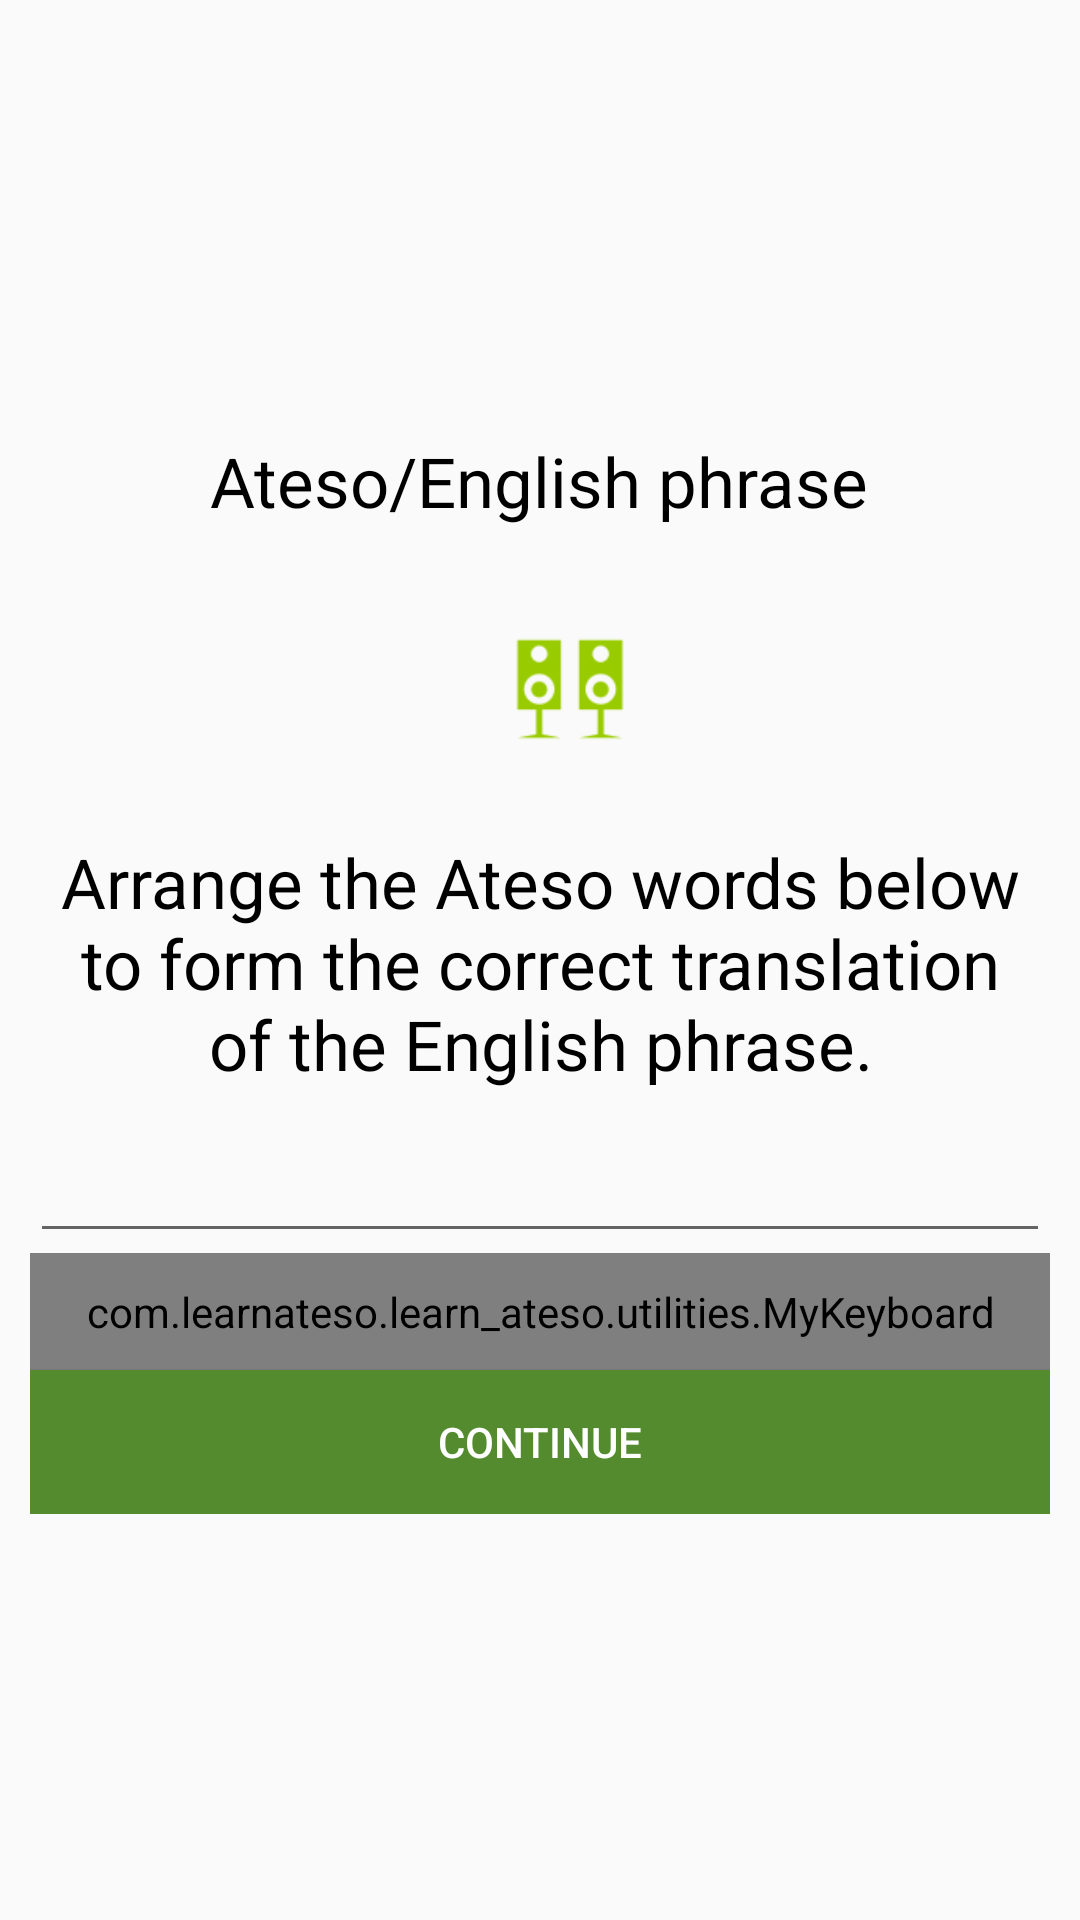

Icon click points for this 1080 x 1920 phone screenshot, format (x=x, y=y):
audioicon: (x=570, y=689)
